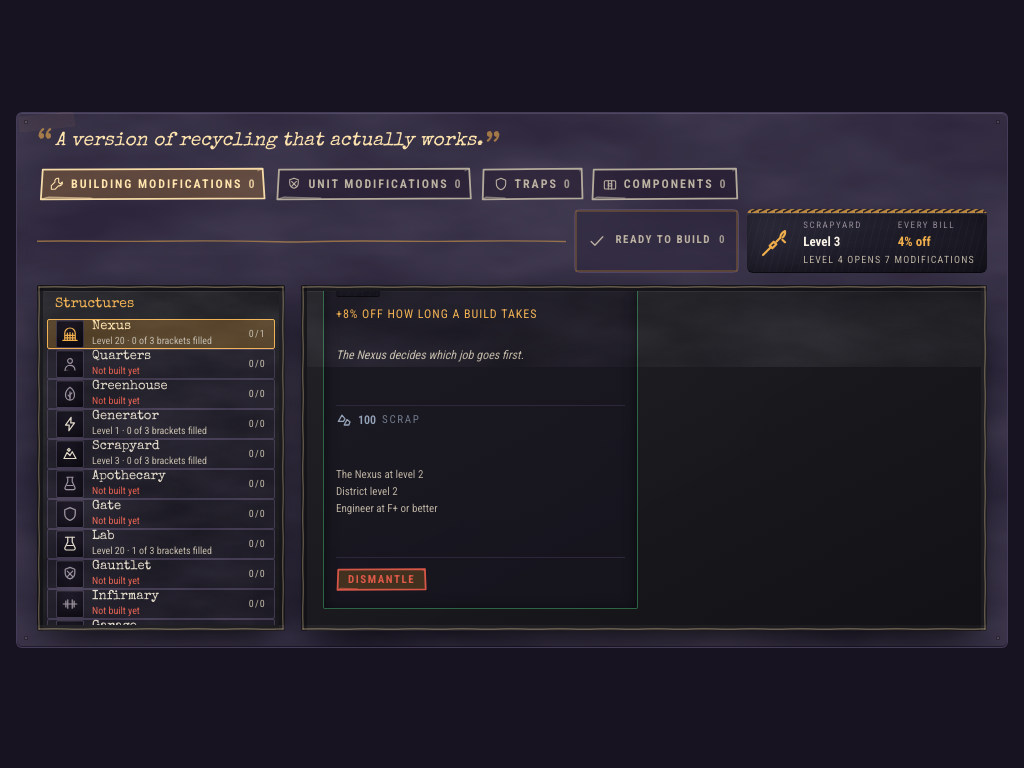
it: bolting a card in from the bench › reads Dismantle on a structure already wearing it, and asks before it does
This screenshot has width=1024, height=768.
(page scrolled)
Click the button with test id "addon-dismantle-nexus_priority_bus".
click(382, 580)  # box [336,568,427,591]
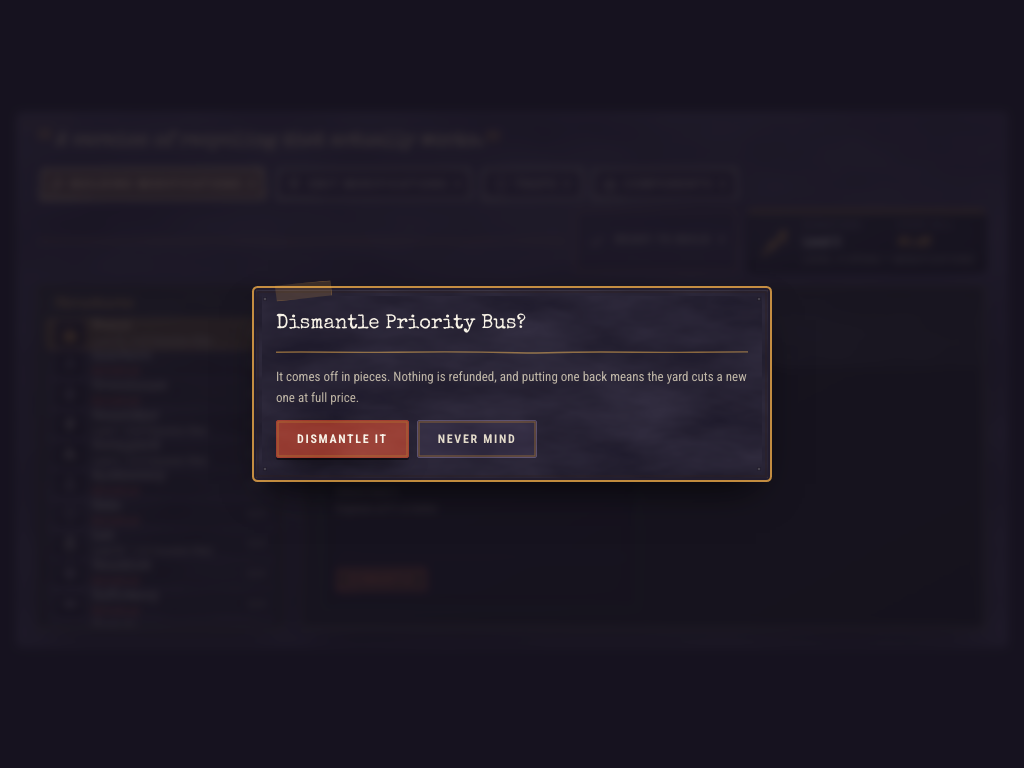
Result: the element with test id "scrapyard-dismantle" is shown at [256,290,768,478]
Result: the element with test id "scrapyard-dismantle" shows "Nothing is refunded" at [276,369,747,405]
